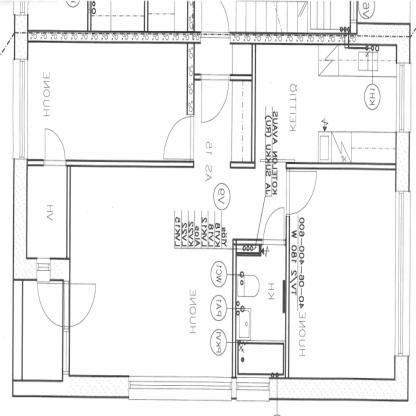door: (159, 108, 198, 165), (31, 277, 67, 332), (283, 165, 321, 215), (65, 278, 101, 330), (200, 70, 234, 125), (198, 0, 232, 45), (39, 122, 69, 169), (261, 204, 290, 248)
window: (390, 185, 414, 359), (126, 369, 235, 405), (8, 53, 32, 163), (391, 57, 414, 137), (233, 373, 275, 409)
